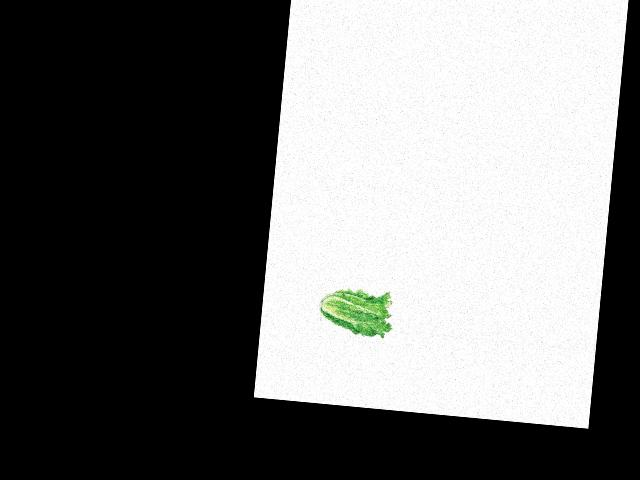lettuce: (318, 283, 395, 339)
